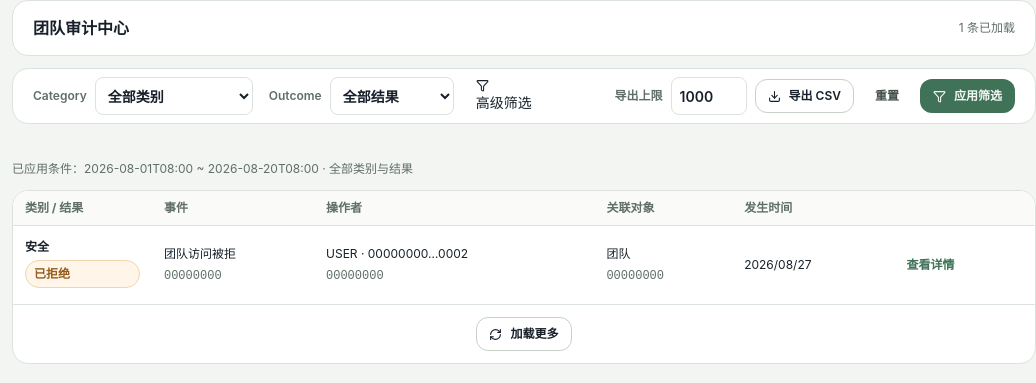
Test: AuditExplorer › blocks exporting a drifted draft and names the applied conditions beside the control
The width and height of the screenshot is (1036, 383).
Expected: the button "导出 CSV" is enabled, [755,79,854,113]
Expected: the text with class "applied-summary" shows "已应用条件", [12,161,413,176]
Select "SECURITY" in the dropdown labelled "Category" at (174, 96), box [95,77,253,115]
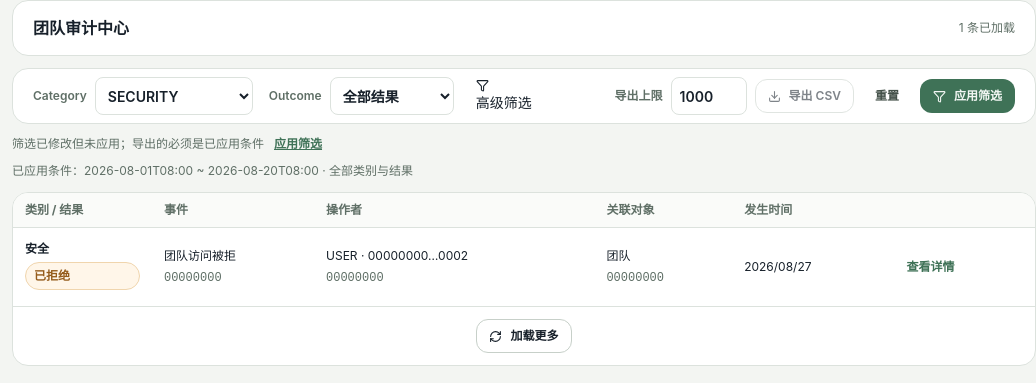
Expected: the text "筛选已修改但未应用" is shown, [12,136,264,151]
Expected: the button with class "inline-apply" reads "应用筛选", [268,134,328,154]
Expected: the button "导出 CSV" is disabled, [755,79,854,113]
